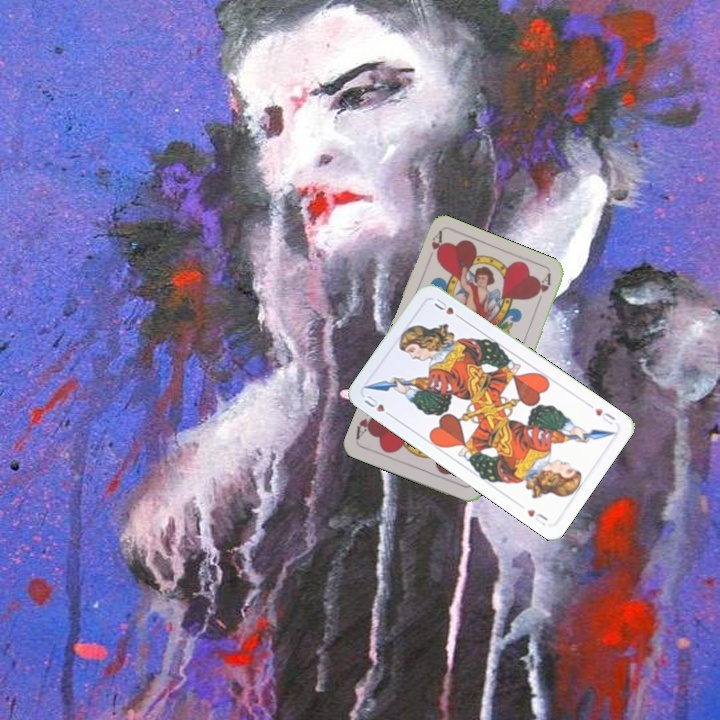HA: (427, 228, 447, 264)
HU: (360, 391, 396, 420), (584, 400, 618, 428)
